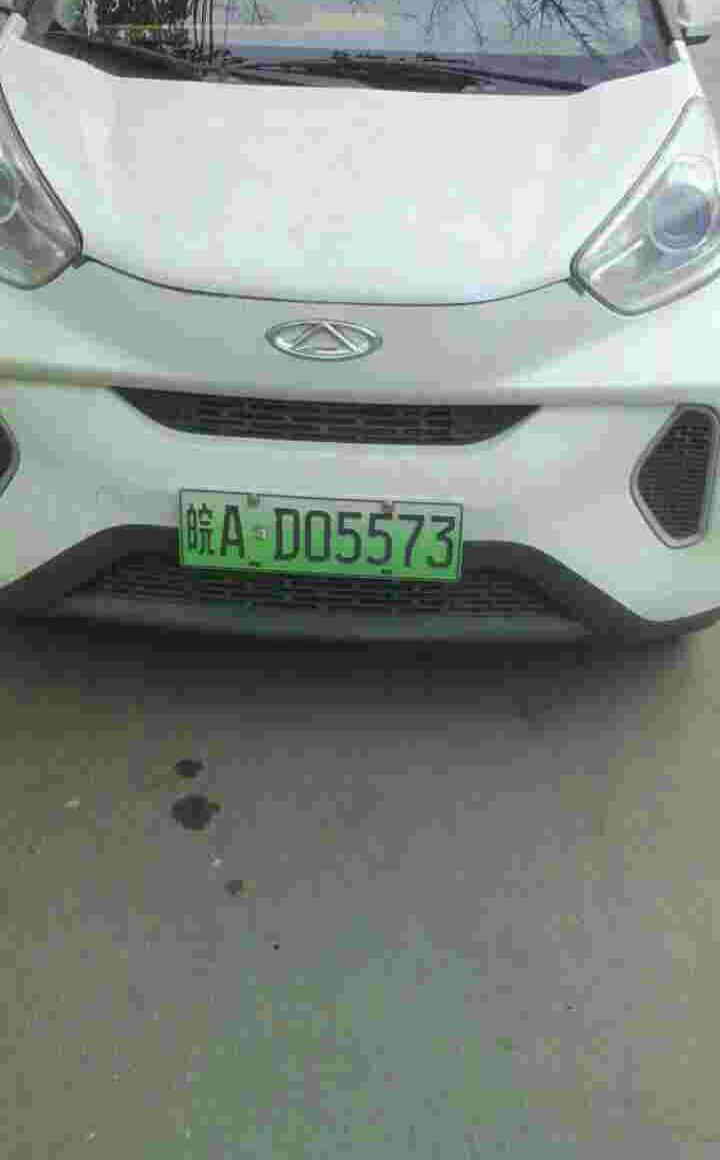car: (174, 483, 470, 582)
